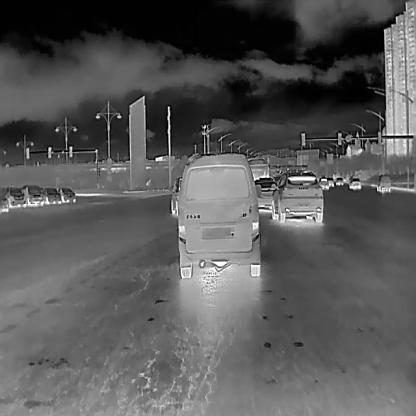car: (176, 151, 261, 280), (270, 170, 323, 222), (250, 176, 278, 208), (23, 185, 44, 206), (6, 185, 25, 208), (40, 186, 61, 204), (375, 173, 391, 192), (59, 186, 76, 202), (348, 174, 360, 188), (318, 177, 328, 190), (326, 177, 334, 187), (336, 176, 342, 186)
